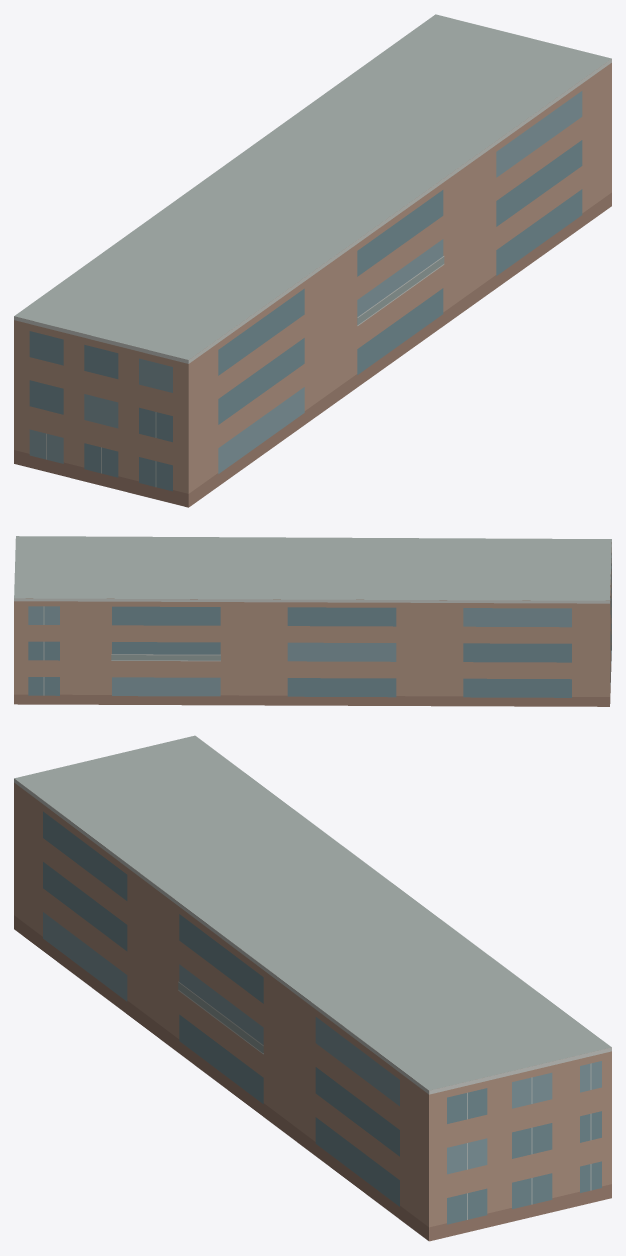
File: survey-upis-32725064.glb
3 views of the same model, one above another, from view 1: azimuth 30°, elevation 25°; view 2: azimuth 150°, elevation 25°; view 3: azimuth 270°, elevation 25° (orthographic). The views are drawn at different scales.
Visible parts, largest first — view 1: survey-upis-32725064.tmp; view 2: survey-upis-32725064.tmp; view 3: survey-upis-32725064.tmp.
Boxes of the visible parts, bbox=[...] form: survey-upis-32725064.tmp: bbox=[14, 14, 611, 507]; survey-upis-32725064.tmp: bbox=[14, 536, 611, 706]; survey-upis-32725064.tmp: bbox=[14, 735, 611, 1241].
Size of the model in its own units: 46.23 by 9.15 by 32.89.
